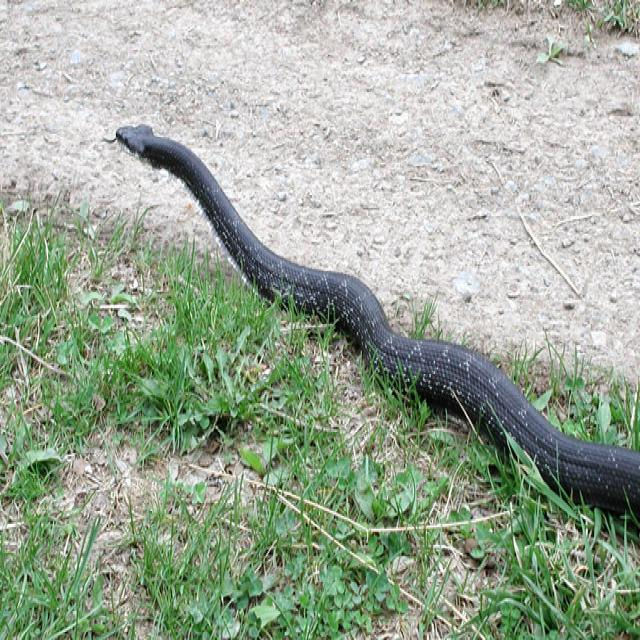Snake: (113, 119, 638, 521)
